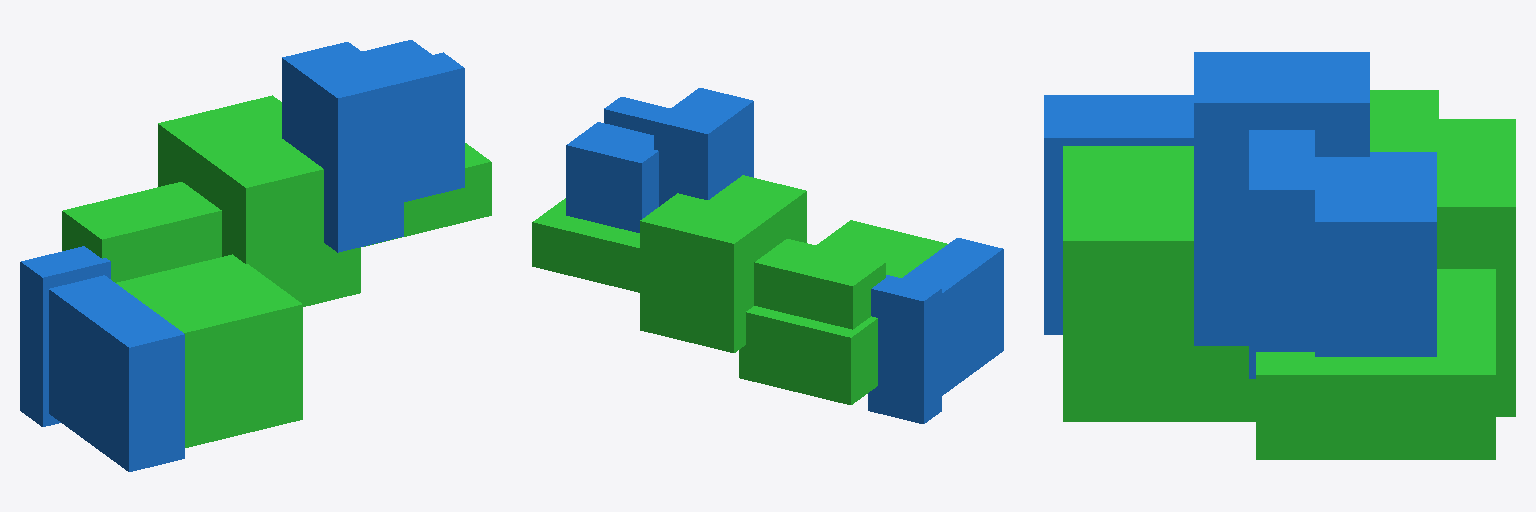
The robot description file, URDF, robot "robot":
<robot name = "robot">
    <link name="Link0">
        <inertial>
            <origin xyz="0 0 2" rpy="0 0 0"/>
            <mass value="0.5093818781472337" />
            <inertia ixx="100" ixy="0" ixz="0" iyy="100" iyz="0" izz="100" />
        </inertial>
        <visual>
            <origin xyz="0 0 2" rpy="0 0 0"/>
            <geometry>
                <box size="0.5386055961989953 0.7888039652149142 1.1989568238140138" />
            </geometry>
            <material name="No Sensor">
                <color rgba="0.184 0.553 0.933 1.0"/>
            </material>
        </visual>
        <collision>
            <origin xyz="0 0 2" rpy="0 0 0"/>
            <geometry>
                <box size="0.5386055961989953 0.7888039652149142 1.1989568238140138" />
            </geometry>
        </collision>
    </link>
    <joint name="Link0_Link1" type="revolute">
       <parent link="Link0"/>
       <child  link="Link1"/>
       <origin rpy="0 0 0" xyz="0.26930279809949764 0 2" />
       <axis xyz="1 0 0"/>
       <limit effort="0.0" lower="-3.14159" upper="3.14159" velocity="0.0"/>
    </joint>
    <link name="Link1">
        <inertial>
            <origin xyz="0.31770034977492756 0 0" rpy="0 0 0"/>
            <mass value="0.1748000689814019" />
            <inertia ixx="100" ixy="0" ixz="0" iyy="100" iyz="0" izz="100" />
        </inertial>
        <visual>
            <origin xyz="0.31770034977492756 0 0" rpy="0 0 0"/>
            <geometry>
                <box size="0.6354006995498551 0.29500976581373906 0.9325186327094862" />
            </geometry>
            <material name="No Sensor">
                <color rgba="0.184 0.553 0.933 1.0"/>
            </material>
        </visual>
        <collision>
            <origin xyz="0.31770034977492756 0 0" rpy="0 0 0"/>
            <geometry>
                <box size="0.6354006995498551 0.29500976581373906 0.9325186327094862" />
            </geometry>
        </collision>
    </link>
    <joint name="Link1_Link2" type="revolute">
       <parent link="Link1"/>
       <child  link="Link2"/>
       <origin rpy="0 0 0" xyz="0.31770034977492756 0.14750488290686953 0.0" />
       <axis xyz="1 0 0"/>
       <limit effort="0.0" lower="-3.14159" upper="3.14159" velocity="0.0"/>
    </joint>
    <link name="Link2">
        <inertial>
            <origin xyz="0.0 0.27325600044936094 0.0" rpy="0 0 0"/>
            <mass value="0.2711286632806344" />
            <inertia ixx="100" ixy="0" ixz="0" iyy="100" iyz="0" izz="100" />
        </inertial>
        <visual>
            <origin xyz="0.0 0.27325600044936094 0.0" rpy="0 0 0"/>
            <geometry>
                <box size="0.7450306601798781 0.5465120008987219 0.6658886067092111" />
            </geometry>
            <material name="No Sensor">
                <color rgba="0.184 0.553 0.933 1.0"/>
            </material>
        </visual>
        <collision>
            <origin xyz="0.0 0.27325600044936094 0.0" rpy="0 0 0"/>
            <geometry>
                <box size="0.7450306601798781 0.5465120008987219 0.6658886067092111" />
            </geometry>
        </collision>
    </link>
    <joint name="Link2_Link3" type="revolute">
       <parent link="Link2"/>
       <child  link="Link3"/>
       <origin rpy="0 0 0" xyz="0.0 0.27325600044936094 -0.33294430335460556" />
       <axis xyz="0 1 0"/>
       <limit effort="0.0" lower="-3.14159" upper="3.14159" velocity="0.0"/>
    </joint>
    <link name="Link3">
        <inertial>
            <origin xyz="0.0 0.0 -0.21042317005024846" rpy="0 0 0"/>
            <mass value="0.5014460881384364" />
            <inertia ixx="100" ixy="0" ixz="0" iyy="100" iyz="0" izz="100" />
        </inertial>
        <visual>
            <origin xyz="0.0 0.0 -0.21042317005024846" rpy="0 0 0"/>
            <geometry>
                <box size="1.112510296881771 1.071017713549855 0.42084634010049693" />
            </geometry>
            <material name="Sensor">
                <color rgba="0.239 0.875 0.282 1.0"/>
            </material>
        </visual>
        <collision>
            <origin xyz="0.0 0.0 -0.21042317005024846" rpy="0 0 0"/>
            <geometry>
                <box size="1.112510296881771 1.071017713549855 0.42084634010049693" />
            </geometry>
        </collision>
    </link>
    <joint name="Link3_Link4" type="revolute">
       <parent link="Link3"/>
       <child  link="Link4"/>
       <origin rpy="0 0 0" xyz="-0.5562551484408855 0.0 -0.21042317005024846" />
       <axis xyz="0 1 0"/>
       <limit effort="0.0" lower="-3.14159" upper="3.14159" velocity="0.0"/>
    </joint>
    <link name="Link4">
        <inertial>
            <origin xyz="-0.46756663912303126 0.0 0.0" rpy="0 0 0"/>
            <mass value="1.2068196055188796" />
            <inertia ixx="100" ixy="0" ixz="0" iyy="100" iyz="0" izz="100" />
        </inertial>
        <visual>
            <origin xyz="-0.46756663912303126 0.0 0.0" rpy="0 0 0"/>
            <geometry>
                <box size="0.9351332782460625 1.2476633612725854 1.0343592980408396" />
            </geometry>
            <material name="Sensor">
                <color rgba="0.239 0.875 0.282 1.0"/>
            </material>
        </visual>
        <collision>
            <origin xyz="-0.46756663912303126 0.0 0.0" rpy="0 0 0"/>
            <geometry>
                <box size="0.9351332782460625 1.2476633612725854 1.0343592980408396" />
            </geometry>
        </collision>
    </link>
    <joint name="Link4_Link5" type="revolute">
       <parent link="Link4"/>
       <child  link="Link5"/>
       <origin rpy="0 0 0" xyz="-0.9351332782460625 0.0 0.0" />
       <axis xyz="1 0 0"/>
       <limit effort="0.0" lower="-3.14159" upper="3.14159" velocity="0.0"/>
    </joint>
    <link name="Link5">
        <inertial>
            <origin xyz="-0.4875231777176846 0.0 0.0" rpy="0 0 0"/>
            <mass value="0.2235896578889828" />
            <inertia ixx="100" ixy="0" ixz="0" iyy="100" iyz="0" izz="100" />
        </inertial>
        <visual>
            <origin xyz="-0.4875231777176846 0.0 0.0" rpy="0 0 0"/>
            <geometry>
                <box size="0.9750463554353692 0.560019979210334 0.4094707905844115" />
            </geometry>
            <material name="Sensor">
                <color rgba="0.239 0.875 0.282 1.0"/>
            </material>
        </visual>
        <collision>
            <origin xyz="-0.4875231777176846 0.0 0.0" rpy="0 0 0"/>
            <geometry>
                <box size="0.9750463554353692 0.560019979210334 0.4094707905844115" />
            </geometry>
        </collision>
    </link>
    <joint name="Link5_Link6" type="revolute">
       <parent link="Link5"/>
       <child  link="Link6"/>
       <origin rpy="0 0 0" xyz="-0.4875231777176846 0.0 -0.20473539529220575" />
       <axis xyz="1 0 0"/>
       <limit effort="0.0" lower="-3.14159" upper="3.14159" velocity="0.0"/>
    </joint>
    <link name="Link6">
        <inertial>
            <origin xyz="0.0 0.0 -0.3200451992668882" rpy="0 0 0"/>
            <mass value="0.6136564901717151" />
            <inertia ixx="100" ixy="0" ixz="0" iyy="100" iyz="0" izz="100" />
        </inertial>
        <visual>
            <origin xyz="0.0 0.0 -0.3200451992668882" rpy="0 0 0"/>
            <geometry>
                <box size="1.1143221540234216 0.8603462184166267 0.6400903985337764" />
            </geometry>
            <material name="Sensor">
                <color rgba="0.239 0.875 0.282 1.0"/>
            </material>
        </visual>
        <collision>
            <origin xyz="0.0 0.0 -0.3200451992668882" rpy="0 0 0"/>
            <geometry>
                <box size="1.1143221540234216 0.8603462184166267 0.6400903985337764" />
            </geometry>
        </collision>
    </link>
    <joint name="Link6_Link7" type="revolute">
       <parent link="Link6"/>
       <child  link="Link7"/>
       <origin rpy="0 0 0" xyz="0.0 -0.43017310920831336 -0.3200451992668882" />
       <axis xyz="1 0 0"/>
       <limit effort="0.0" lower="-3.14159" upper="3.14159" velocity="0.0"/>
    </joint>
    <link name="Link7">
        <inertial>
            <origin xyz="0.0 -0.4843139428606525 0.0" rpy="0 0 0"/>
            <mass value="0.8740412535664528" />
            <inertia ixx="100" ixy="0" ixz="0" iyy="100" iyz="0" izz="100" />
        </inertial>
        <visual>
            <origin xyz="0.0 -0.4843139428606525 0.0" rpy="0 0 0"/>
            <geometry>
                <box size="1.0055907348208795 0.968627885721305 0.8973331254774046" />
            </geometry>
            <material name="Sensor">
                <color rgba="0.239 0.875 0.282 1.0"/>
            </material>
        </visual>
        <collision>
            <origin xyz="0.0 -0.4843139428606525 0.0" rpy="0 0 0"/>
            <geometry>
                <box size="1.0055907348208795 0.968627885721305 0.8973331254774046" />
            </geometry>
        </collision>
    </link>
    <joint name="Link7_Link8" type="revolute">
       <parent link="Link7"/>
       <child  link="Link8"/>
       <origin rpy="0 0 0" xyz="-0.5027953674104397 -0.4843139428606525 0.0" />
       <axis xyz="1 0 0"/>
       <limit effort="0.0" lower="-3.14159" upper="3.14159" velocity="0.0"/>
    </joint>
    <link name="Link8">
        <inertial>
            <origin xyz="-0.22863168078166984 0.0 0.0" rpy="0 0 0"/>
            <mass value="0.5031420697361231" />
            <inertia ixx="100" ixy="0" ixz="0" iyy="100" iyz="0" izz="100" />
        </inertial>
        <visual>
            <origin xyz="-0.22863168078166984 0.0 0.0" rpy="0 0 0"/>
            <geometry>
                <box size="0.4572633615633397 1.1355278177946995 0.9690059624284972" />
            </geometry>
            <material name="No Sensor">
                <color rgba="0.184 0.553 0.933 1.0"/>
            </material>
        </visual>
        <collision>
            <origin xyz="-0.22863168078166984 0.0 0.0" rpy="0 0 0"/>
            <geometry>
                <box size="0.4572633615633397 1.1355278177946995 0.9690059624284972" />
            </geometry>
        </collision>
    </link>
    <joint name="Link8_Link9" type="revolute">
       <parent link="Link8"/>
       <child  link="Link9"/>
       <origin rpy="0 0 0" xyz="-0.22863168078166984 0.5677639088973497 0.0" />
       <axis xyz="0 0 1"/>
       <limit effort="0.0" lower="-3.14159" upper="3.14159" velocity="0.0"/>
    </joint>
    <link name="Link9">
        <inertial>
            <origin xyz="0.0 0.15679924943835138 0.0" rpy="0 0 0"/>
            <mass value="0.20151740385246597" />
            <inertia ixx="100" ixy="0" ixz="0" iyy="100" iyz="0" izz="100" />
        </inertial>
        <visual>
            <origin xyz="0.0 0.15679924943835138 0.0" rpy="0 0 0"/>
            <geometry>
                <box size="0.5526305634146216 0.31359849887670277 1.1627964154958703" />
            </geometry>
            <material name="No Sensor">
                <color rgba="0.184 0.553 0.933 1.0"/>
            </material>
        </visual>
        <collision>
            <origin xyz="0.0 0.15679924943835138 0.0" rpy="0 0 0"/>
            <geometry>
                <box size="0.5526305634146216 0.31359849887670277 1.1627964154958703" />
            </geometry>
        </collision>
    </link>
</robot>

--- Render facts (derived) ---
Views: 3 orthographic renders of the robot side by side, from view 1: azimuth 30°, elevation 25°; view 2: azimuth 150°, elevation 25°; view 3: azimuth 270°, elevation 25°.
Robot: robot — 10 links, 9 joints (9 revolute); root link Link0; default pose: every joint at zero.
Visible links, largest first — view 1: Link4, Link7, Link8, Link0, Link5, Link1, Link9, Link3, Link2; view 2: Link4, Link6, Link9, Link0, Link8, Link2, Link5, Link3, Link7, Link1; view 3: Link7, Link3, Link0, Link2, Link4, Link1, Link8, Link5.
Boxes of the visible links, bbox=[...] form: Link4: bbox=[158, 95, 360, 306]; Link7: bbox=[116, 254, 302, 447]; Link8: bbox=[49, 275, 184, 471]; Link0: bbox=[282, 42, 403, 252]; Link5: bbox=[62, 182, 221, 282]; Link1: bbox=[384, 52, 464, 201]; Link9: bbox=[20, 246, 110, 426]; Link3: bbox=[364, 143, 491, 246]; Link2: bbox=[362, 40, 431, 66]; Link4: bbox=[640, 175, 806, 352]; Link6: bbox=[739, 306, 877, 404]; Link9: bbox=[868, 275, 941, 423]; Link0: bbox=[654, 88, 753, 206]; Link8: bbox=[902, 238, 1003, 395]; Link2: bbox=[566, 122, 658, 232]; Link5: bbox=[754, 239, 885, 329]; Link3: bbox=[532, 198, 639, 292]; Link7: bbox=[816, 220, 947, 277]; Link1: bbox=[604, 97, 670, 134]; Link7: bbox=[1063, 146, 1255, 421]; Link3: bbox=[1256, 269, 1495, 459]; Link0: bbox=[1194, 52, 1369, 345]; Link2: bbox=[1315, 152, 1436, 356]; Link4: bbox=[1236, 119, 1515, 416]; Link1: bbox=[1249, 130, 1314, 378]; Link8: bbox=[1044, 95, 1193, 334]; Link5: bbox=[1370, 90, 1438, 118].
Size in the robot's own frame: 3.54 by 2.11 by 2.25 metres.
Geometry: primitives only (box / cylinder / sphere), no mesh files.